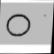no answer: (2, 10, 37, 40)
